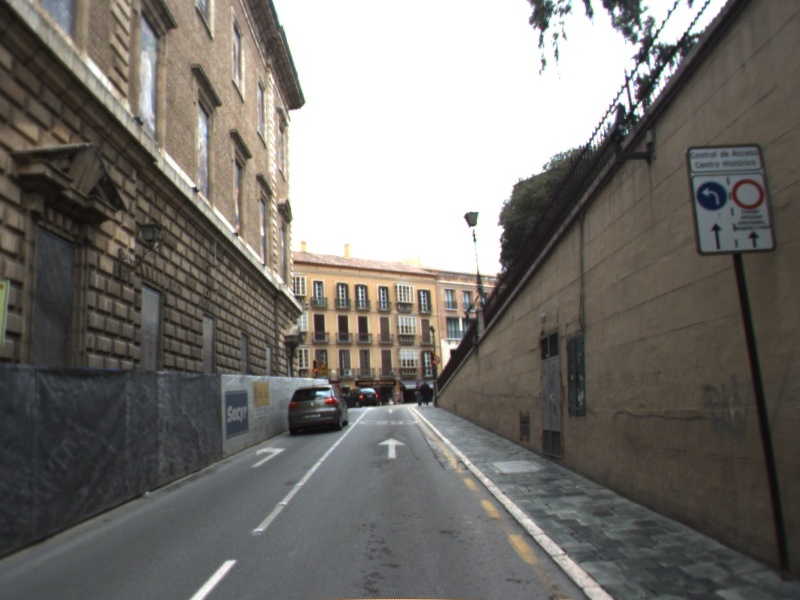LEFT: (249, 444, 287, 469)
STRAIGHT: (376, 436, 408, 461)
